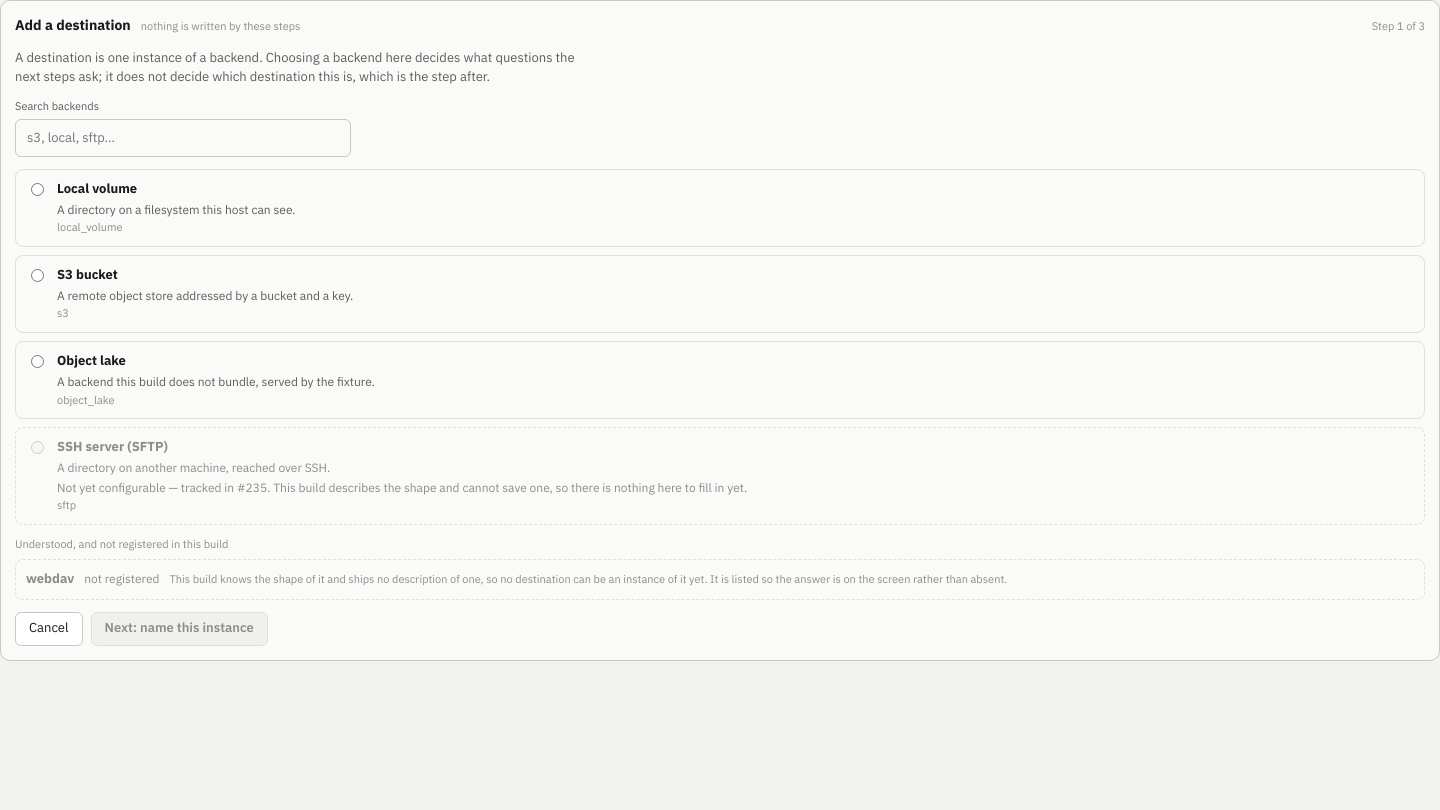
Test: choosing a backend (#668 step 1) › keeps a backend that cannot be configured yet in the search results
The width and height of the screenshot is (1440, 810).
Expected: the radio button labelled "Local volume" is shown, [31,183,44,196]
Type "sftp" into the field labelled "Search backends" at (183, 138), box [15,119,351,157]
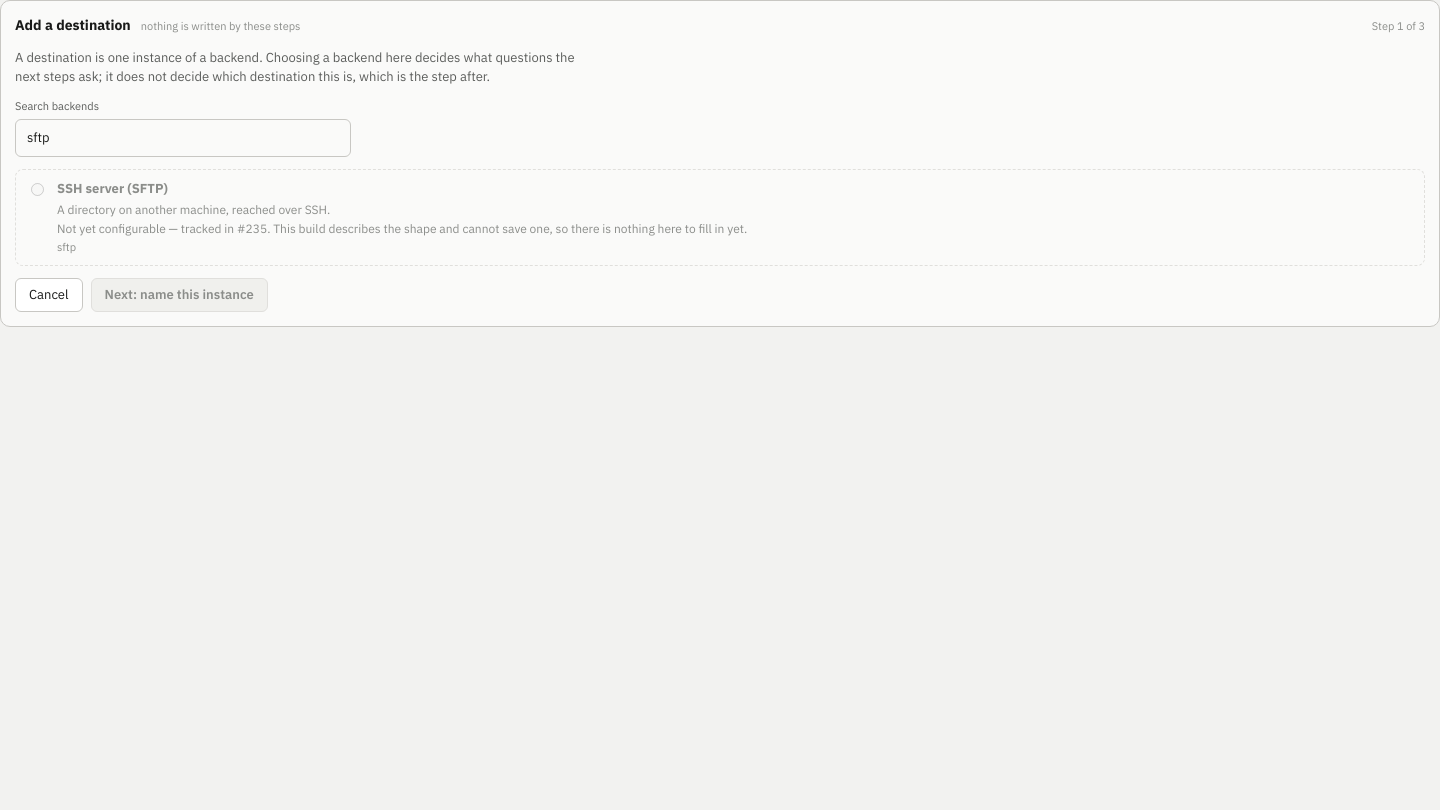
Expected: the radio button labelled "SSH server (SFTP)" is shown, [31,183,44,196]
Expected: the text "S3 bucket" is gone
